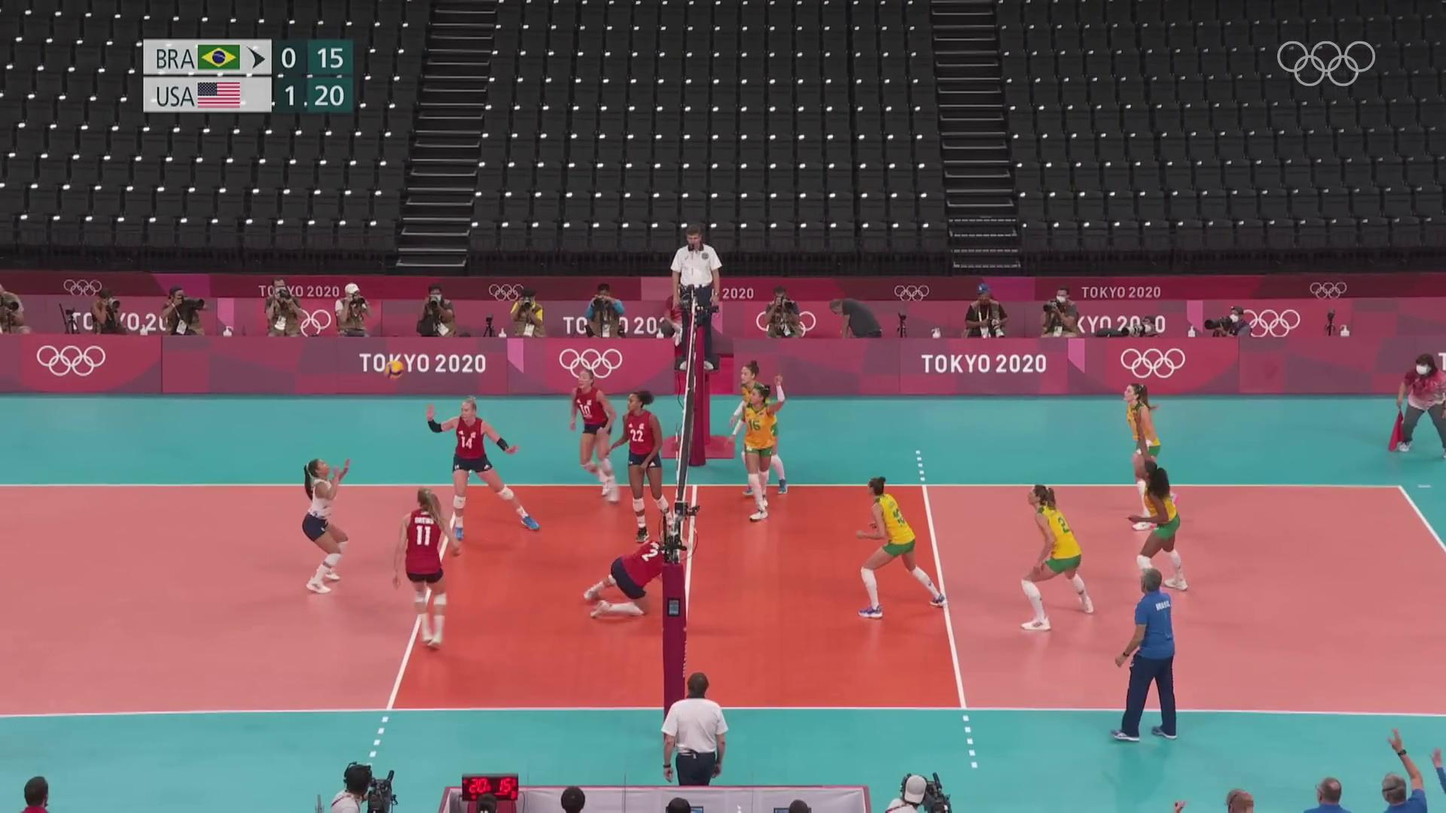player: (428, 401, 542, 542), (846, 478, 950, 621), (1014, 485, 1093, 632), (397, 491, 465, 651), (614, 390, 680, 542), (293, 456, 361, 594), (590, 514, 672, 624), (728, 379, 787, 522), (1115, 383, 1172, 531), (1128, 456, 1188, 592), (732, 362, 789, 495), (569, 369, 623, 504)
refree: (1115, 570, 1179, 744), (661, 671, 729, 790), (667, 225, 721, 371), (1394, 353, 1446, 459)
